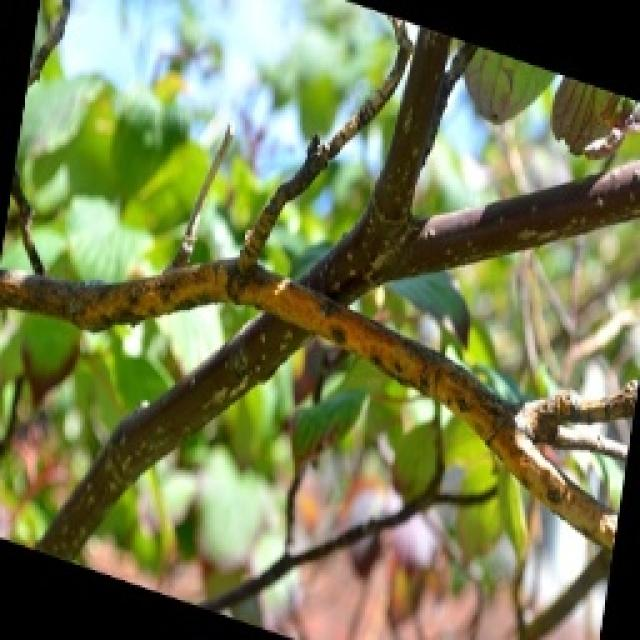Golden_canker: (3, 71, 633, 560)
